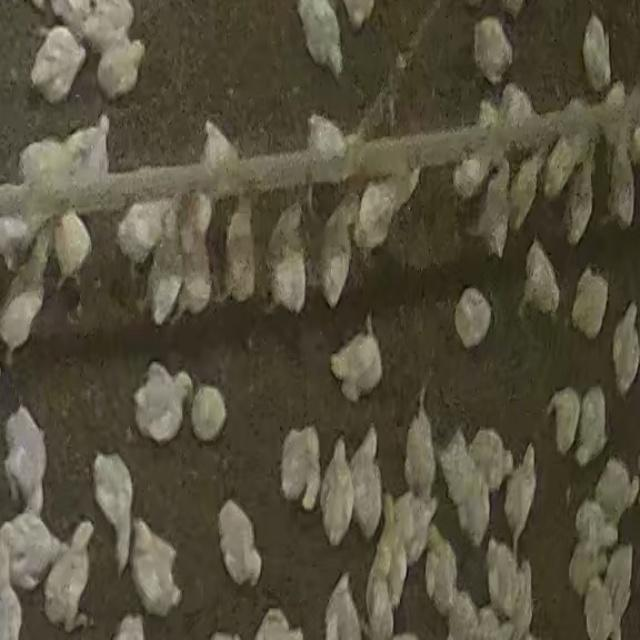chicken: (436, 430, 489, 546), (44, 520, 97, 630), (91, 452, 136, 576), (129, 519, 183, 617), (3, 403, 49, 518), (132, 360, 190, 444), (330, 318, 384, 404), (266, 201, 306, 313), (466, 162, 511, 257), (216, 498, 262, 589), (567, 502, 610, 598), (316, 199, 353, 306), (179, 200, 213, 316), (345, 431, 382, 537), (116, 196, 173, 264), (354, 179, 404, 254), (484, 538, 527, 625), (368, 498, 402, 608), (504, 446, 539, 551), (11, 517, 60, 592), (0, 286, 47, 363), (606, 115, 636, 233), (147, 233, 185, 326), (34, 30, 83, 102), (300, 0, 342, 82), (225, 201, 257, 305), (507, 149, 547, 232), (281, 430, 321, 511), (590, 457, 636, 527), (322, 434, 349, 552), (520, 242, 561, 319), (424, 529, 459, 618), (96, 43, 147, 104), (70, 113, 112, 187), (52, 210, 93, 285), (601, 542, 635, 632), (466, 428, 508, 500), (570, 266, 610, 340), (572, 386, 608, 468), (610, 303, 640, 398), (543, 133, 584, 200), (388, 491, 422, 571), (201, 118, 240, 184), (323, 575, 362, 640), (566, 159, 595, 246), (545, 389, 581, 459), (452, 288, 493, 349), (404, 408, 432, 495), (190, 384, 228, 444), (474, 21, 510, 81), (2, 522, 20, 640), (306, 113, 346, 164), (587, 16, 614, 88), (18, 140, 59, 187), (500, 84, 536, 136), (0, 214, 33, 269), (368, 585, 397, 640), (452, 154, 487, 199), (253, 609, 300, 640), (84, 0, 144, 24), (449, 588, 476, 640), (76, 19, 129, 44), (343, 0, 369, 28)
